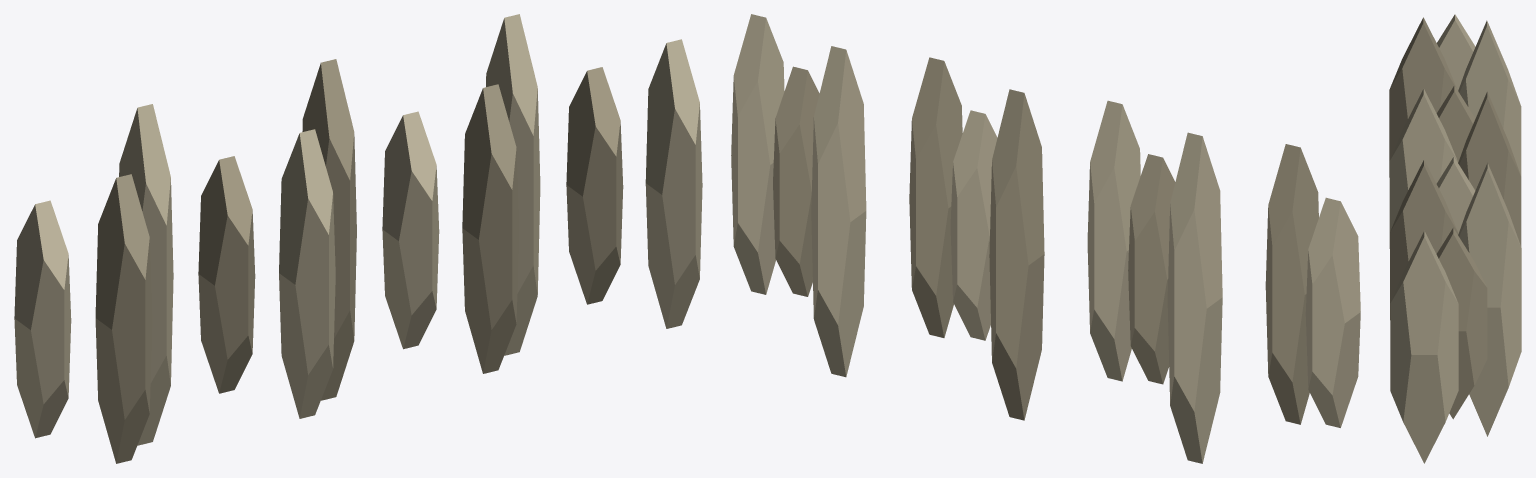
Rendered from ford.glb.
The picture shows the model from 3 angles, left to right: view 1: azimuth 30°, elevation 25°; view 2: azimuth 150°, elevation 25°; view 3: azimuth 270°, elevation 25°; orthographic projection. The views are drawn at different scales.
Parts seen in each view (by area): view 1: part_0, part_1; view 2: part_0, part_1; view 3: part_0, part_1.
Part boxes in pixels (x1,y1,x2,y2): part_0: [14, 14, 702, 445]; part_1: [95, 59, 623, 463]; part_0: [731, 14, 1360, 463]; part_1: [773, 57, 1318, 424]; part_0: [1389, 14, 1521, 463]; part_1: [1389, 17, 1521, 419].
Bounding box in the file's own units: 1.96 × 0.9715 × 0.4343.
